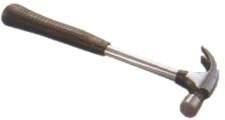hammer: (0, 1, 219, 119)
